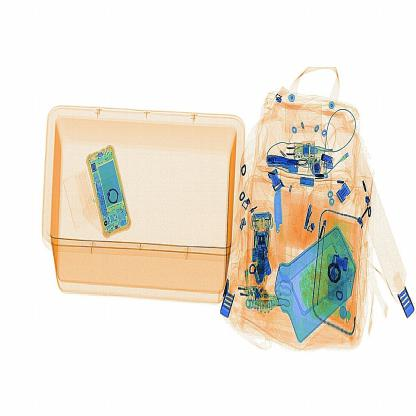wrench: (271, 188, 287, 263)
